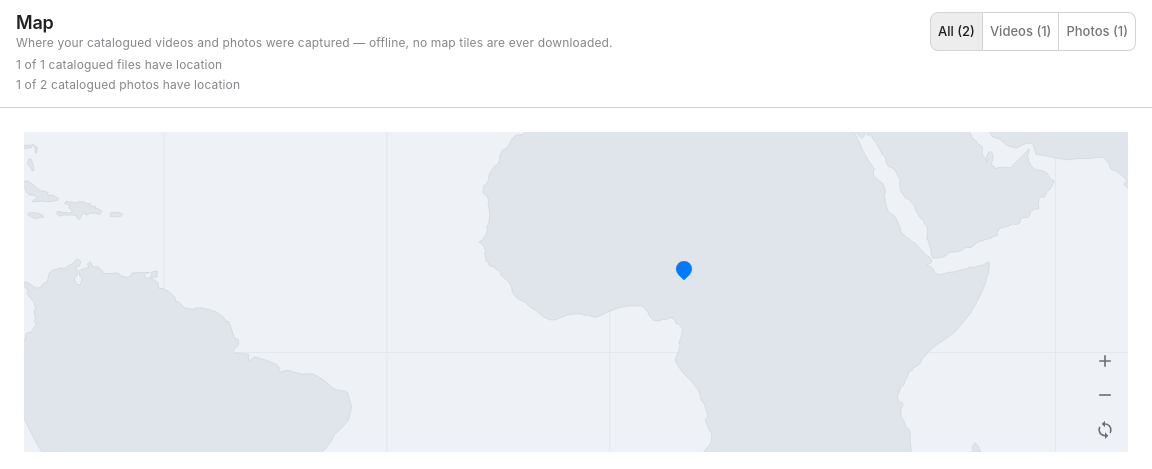
MapView › shows a second coverage line for photos only when the catalog has any, and the media filter toggles pin sets
Expected: the text with test id "map-coverage-photos" reads "1 of 2 catalogued photos have location", x1=16 y1=77 x2=240 y2=92
Click the button with test id "map-media-filter-photo".
click(1097, 31)  # box x1=1058 y1=12 x2=1136 y2=51
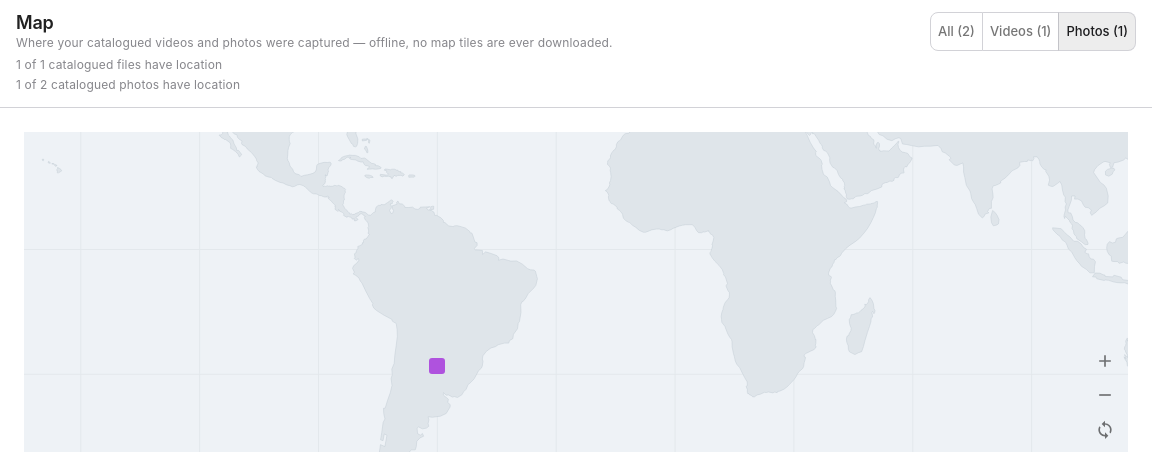
Expected: the number of buttons with test id "map-pin" is 1, x1=429 y1=358 x2=445 y2=374
Result: the button with test id "map-pin" has attribute data-media="photo" at x1=429 y1=358 x2=445 y2=374
Click the button with test id "map-media-filter-video".
click(1021, 31)  # box x1=982 y1=12 x2=1059 y2=51
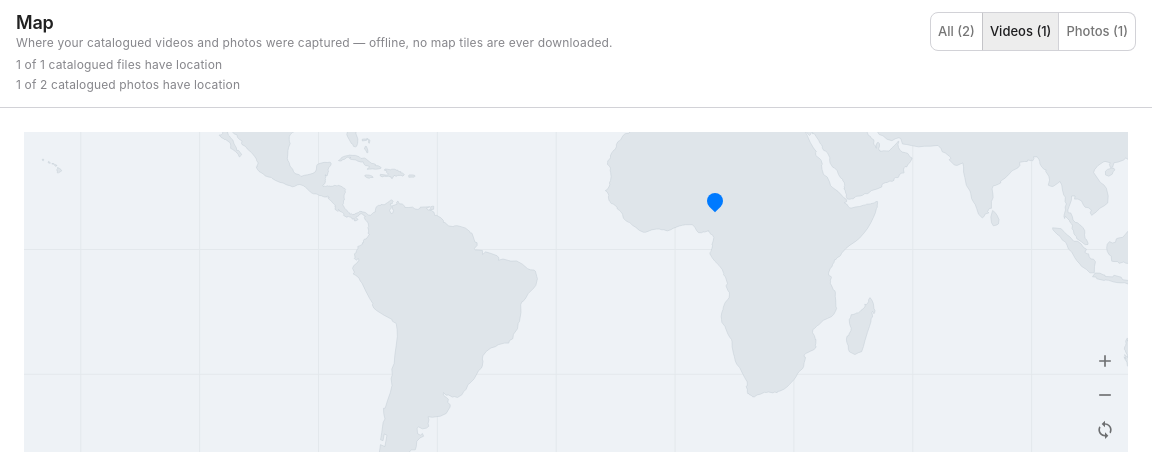
Expected: the number of buttons with test id "map-pin" is 1, x1=703 y1=190 x2=726 y2=213
Result: the button with test id "map-pin" has attribute data-media="video" at x1=703 y1=190 x2=726 y2=213
Click the button with test id "map-media-filter-all".
click(956, 31)  # box x1=930 y1=12 x2=983 y2=51
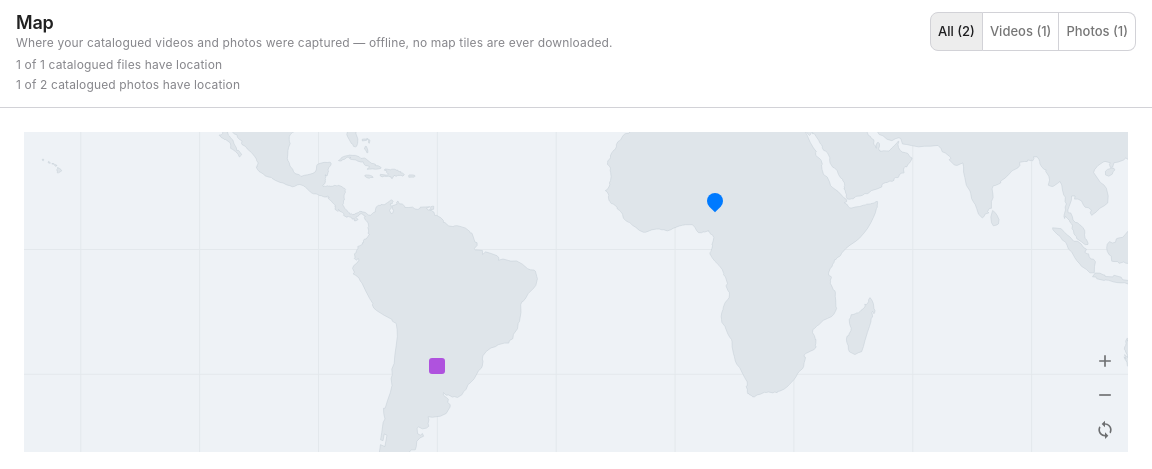
Result: the number of buttons with test id "map-pin" is 2 at x1=703 y1=190 x2=726 y2=213; x1=429 y1=358 x2=445 y2=374
